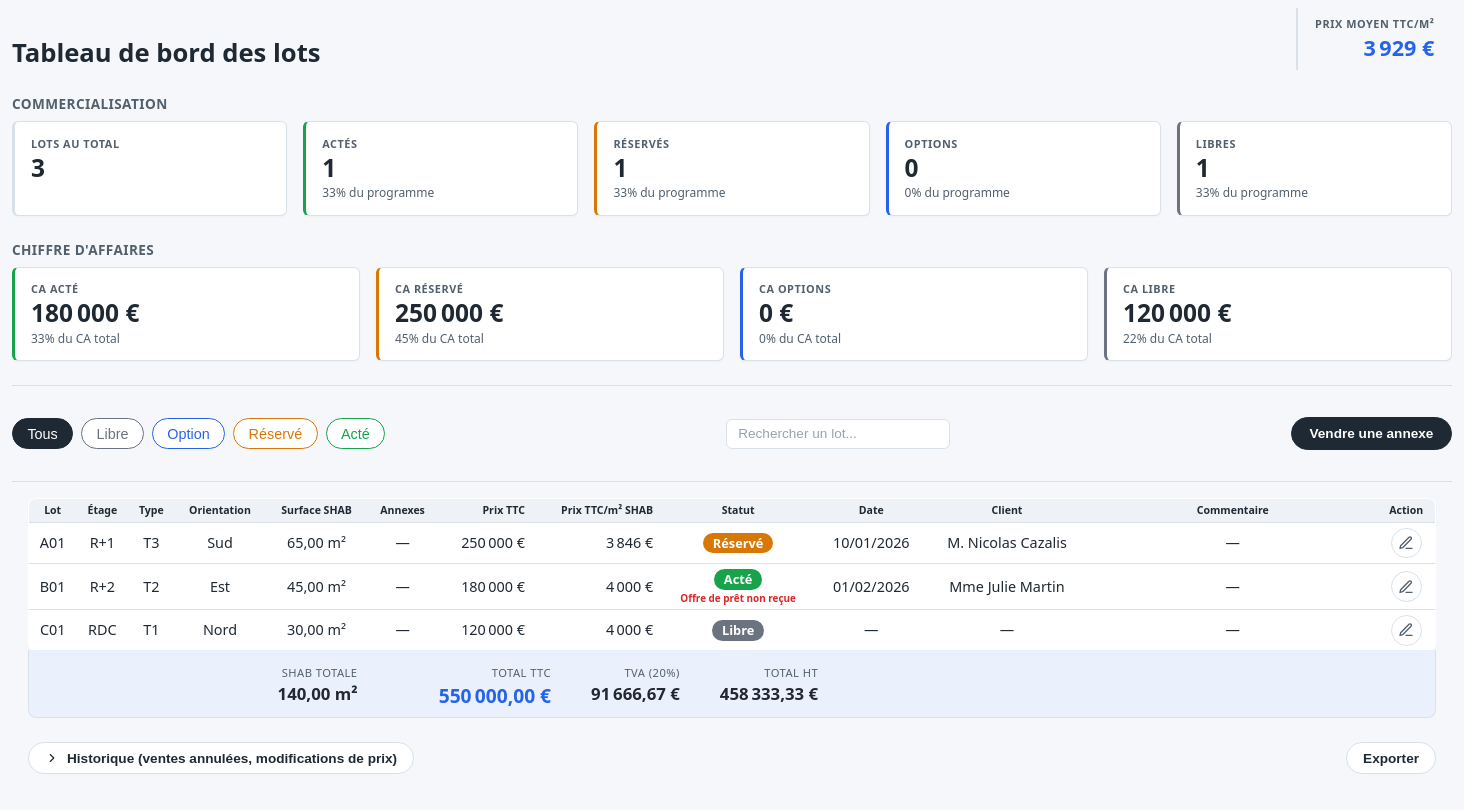
Lots — filtres › filtre par statut
Click the button "Acté" at {"x": 355, "y": 434}, box [326,418,385,449]
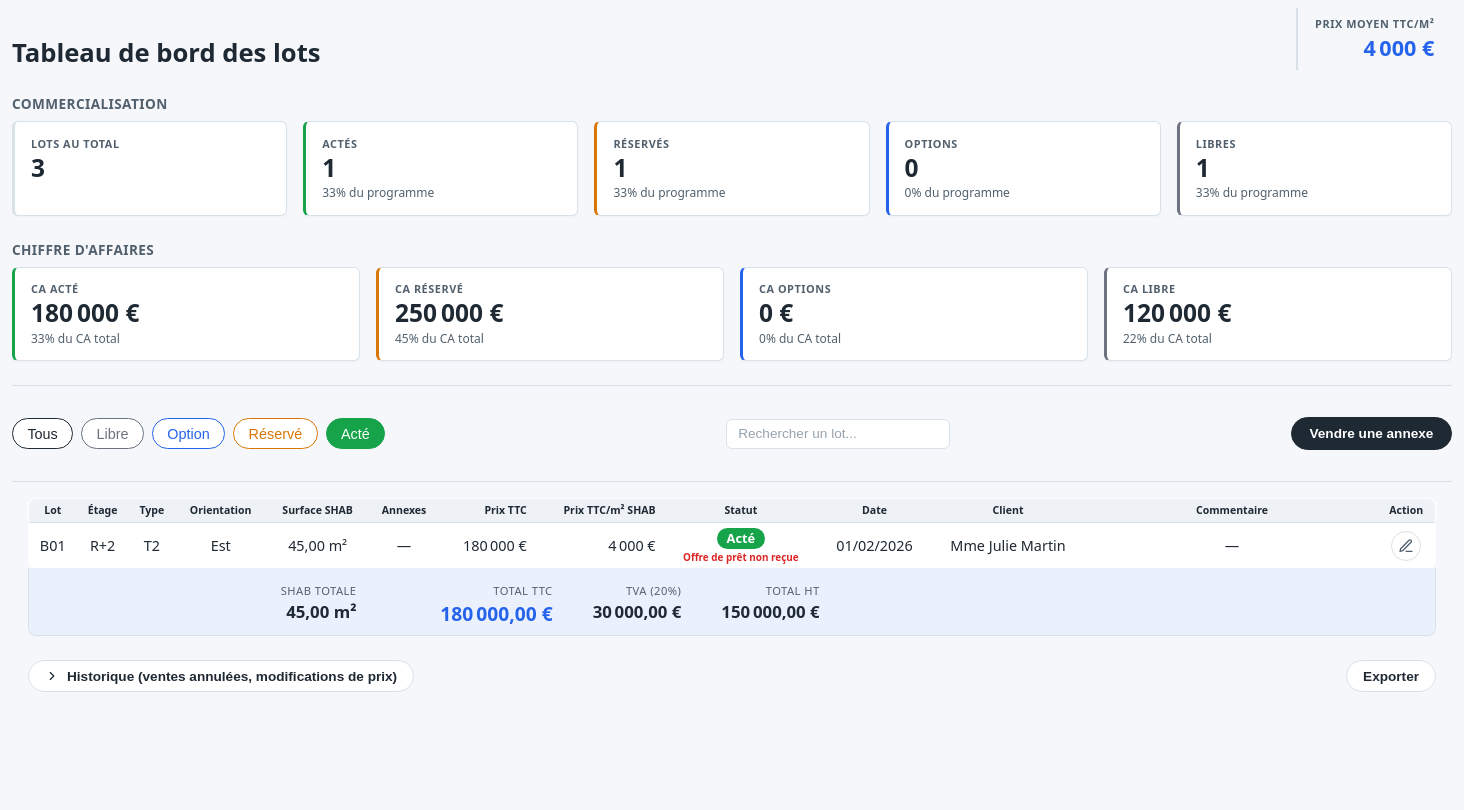
expect the text "B01" is shown: met, box [28,522,76,569]
expect the text "A01" is gone: met
